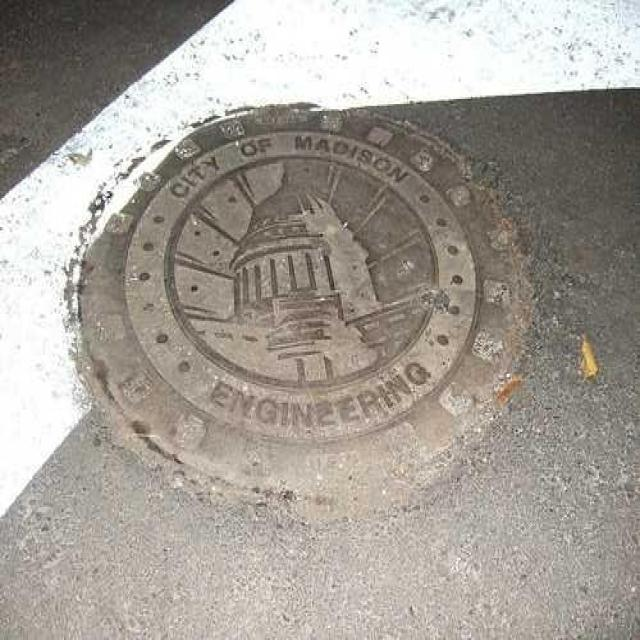manhole: (78, 106, 534, 526)
